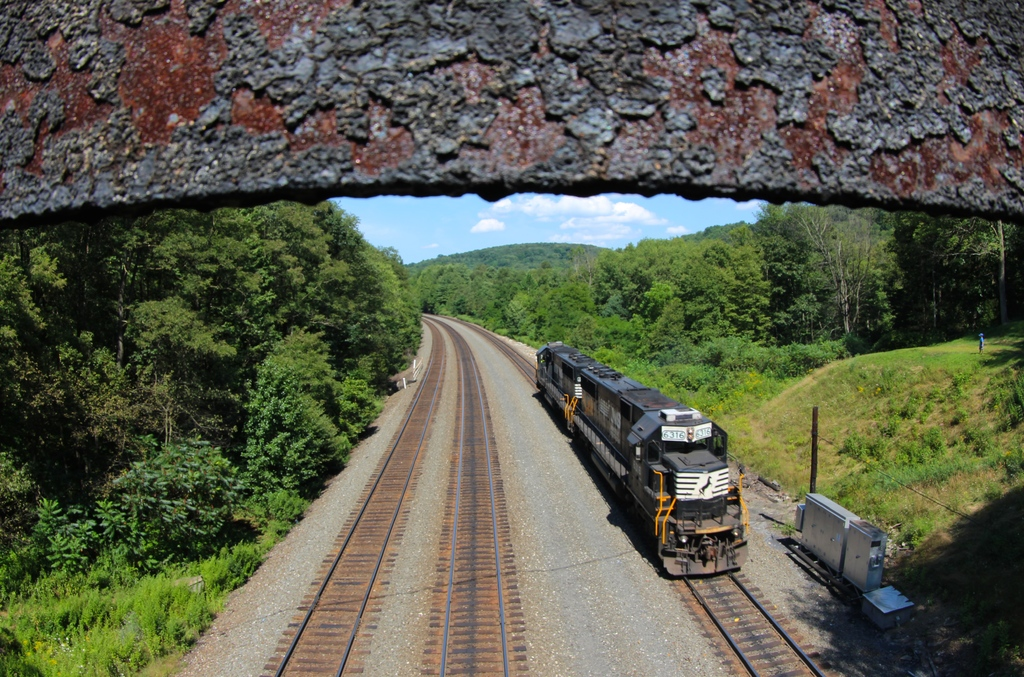train: (535, 337, 753, 573)
